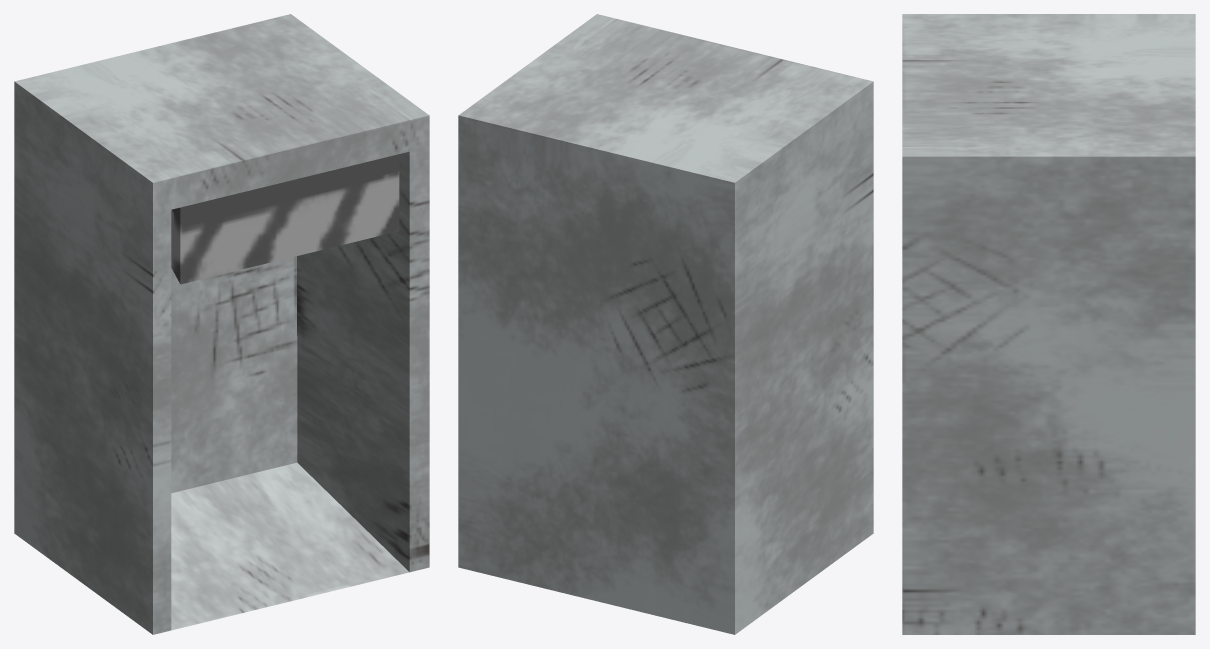
File: GON-door-openTRUE.fbx
3 renders of one model, left to right at view 1: azimuth 30°, elevation 25°; view 2: azimuth 150°, elevation 25°; view 3: azimuth 270°, elevation 25°, orthographic. The views are drawn at different scales.
Parts seen in each view (by area): view 1: pasted__door_frame, pasted__door; view 2: pasted__door_frame; view 3: pasted__door_frame.
Part boxes in pixels (bbox=[...]): pasted__door_frame: bbox=[14, 14, 429, 634]; pasted__door: bbox=[171, 154, 399, 284]; pasted__door_frame: bbox=[458, 14, 873, 634]; pasted__door_frame: bbox=[902, 14, 1195, 634].
Size of the model in its own units: 1.87 by 2.92 by 1.62.
2 materials, 2 textured.
